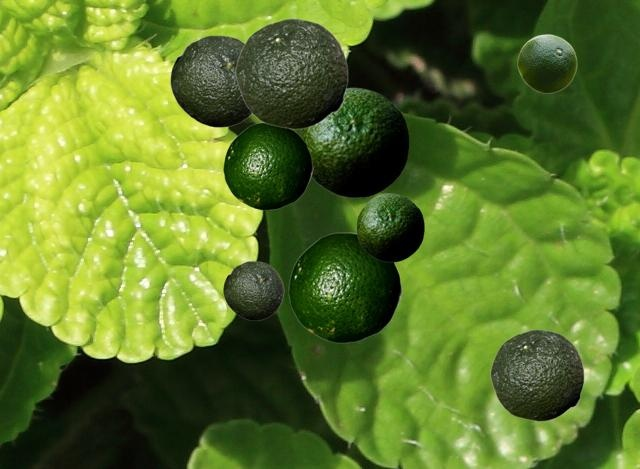calamansi: (288, 232, 401, 342), (235, 18, 347, 128), (299, 87, 408, 197), (490, 329, 583, 420), (223, 122, 312, 209), (170, 35, 251, 126), (356, 193, 423, 261), (223, 261, 283, 319), (517, 34, 576, 92)
